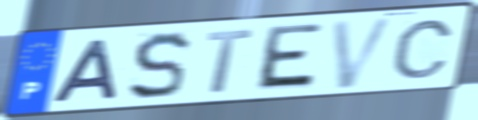A: (49, 37, 122, 106)
C: (389, 18, 457, 81)
E: (251, 21, 326, 92)
S: (126, 30, 193, 103)
T: (204, 27, 256, 96)
V: (329, 14, 400, 92)
